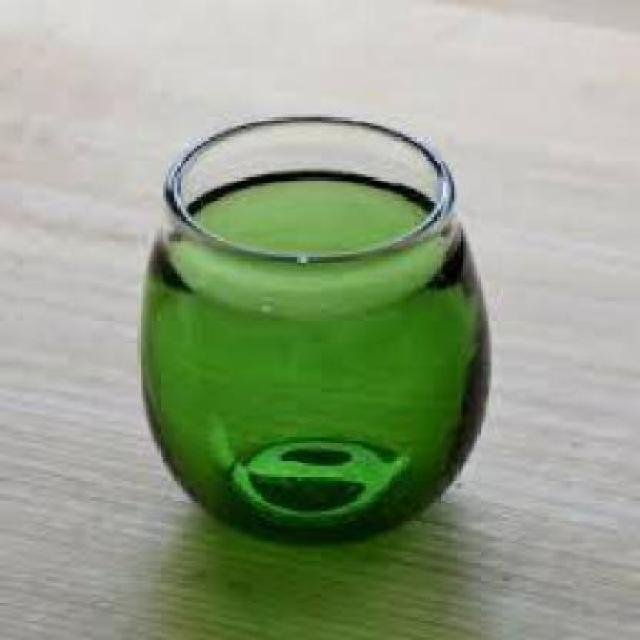kaca: (140, 114, 483, 537)
